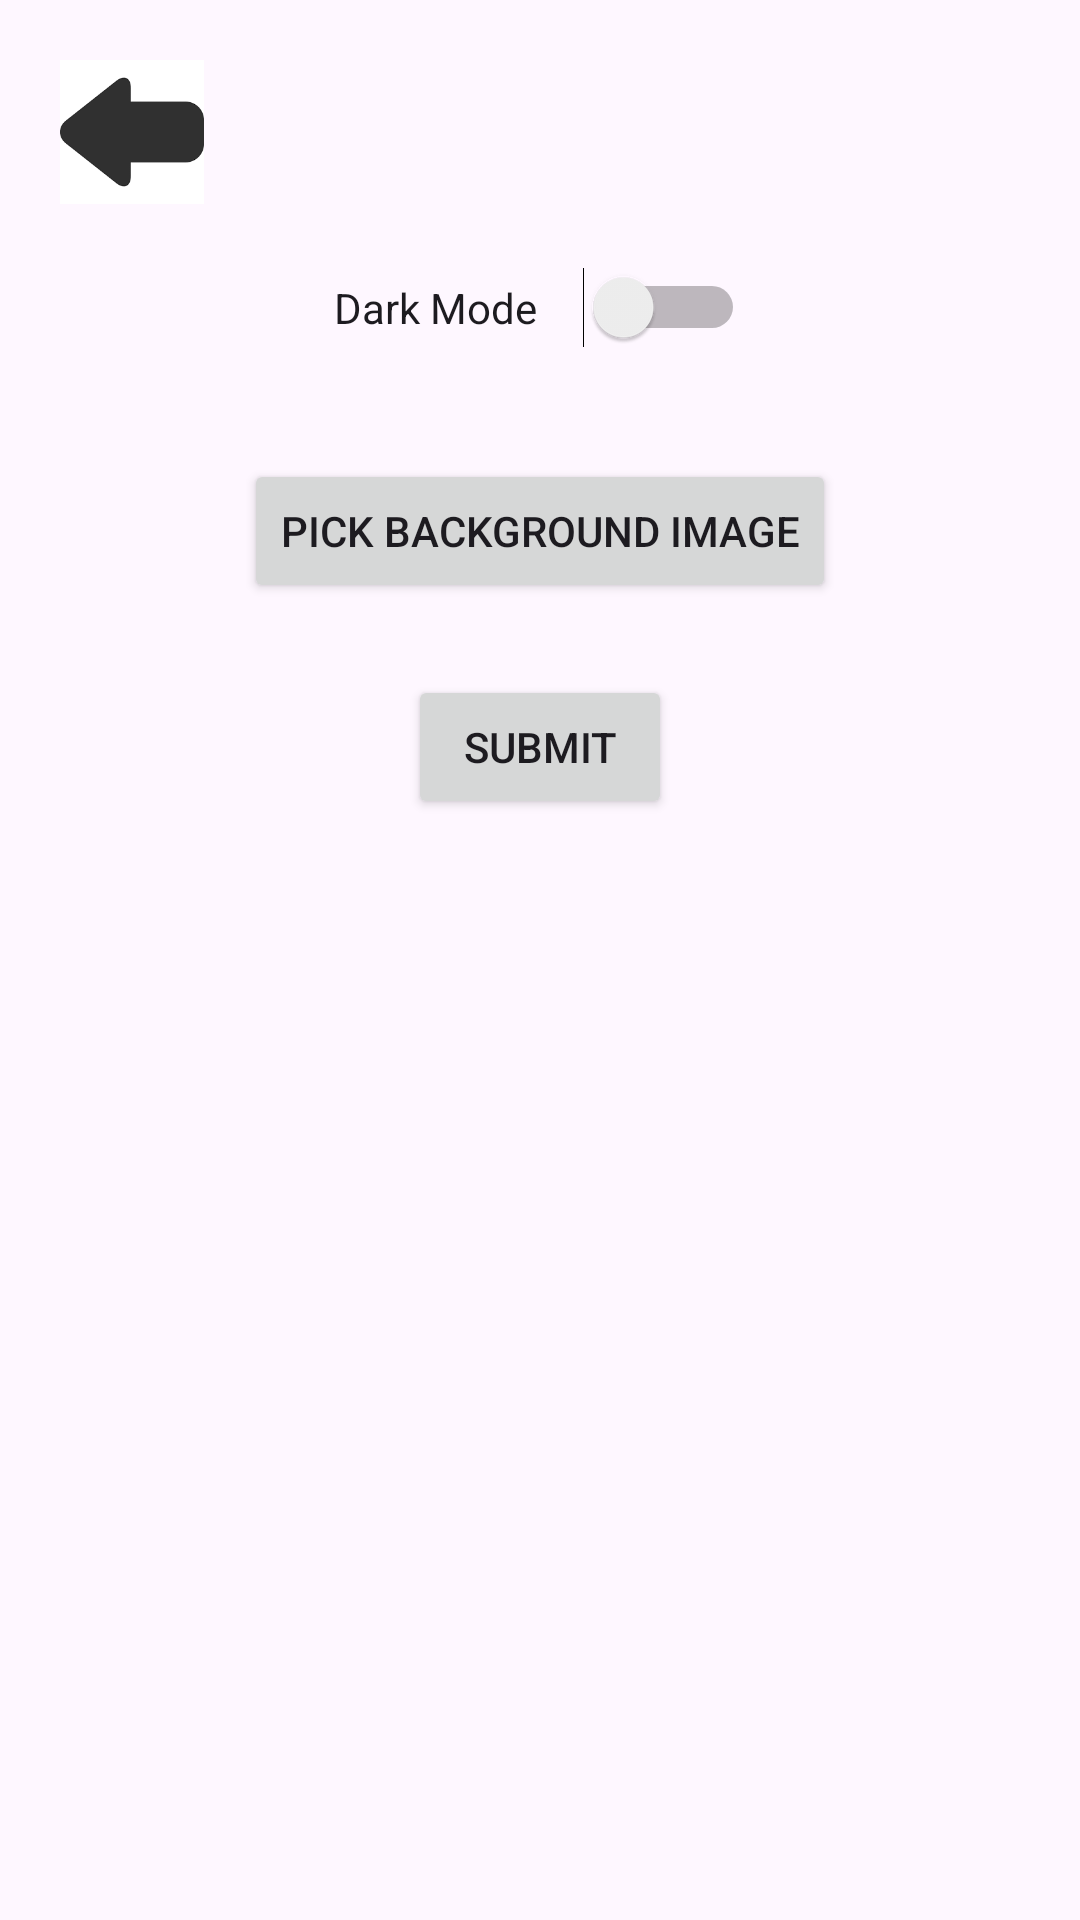

Icons on this 1080*1920 Android screen, each with the point to tap as [x,y]:
Back: [132,132]
